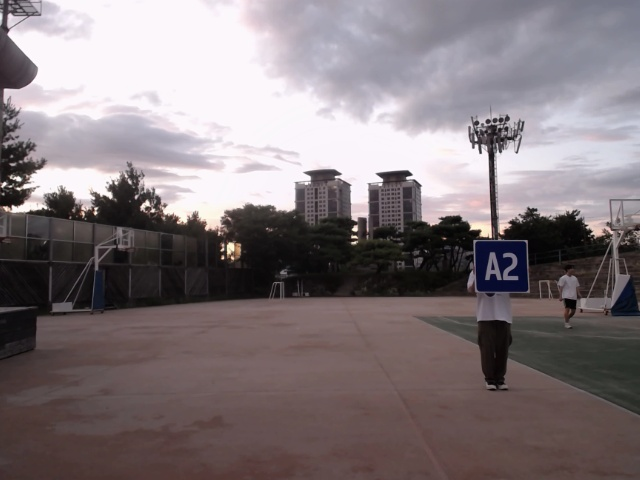delivery_a2: (474, 240, 529, 293)
